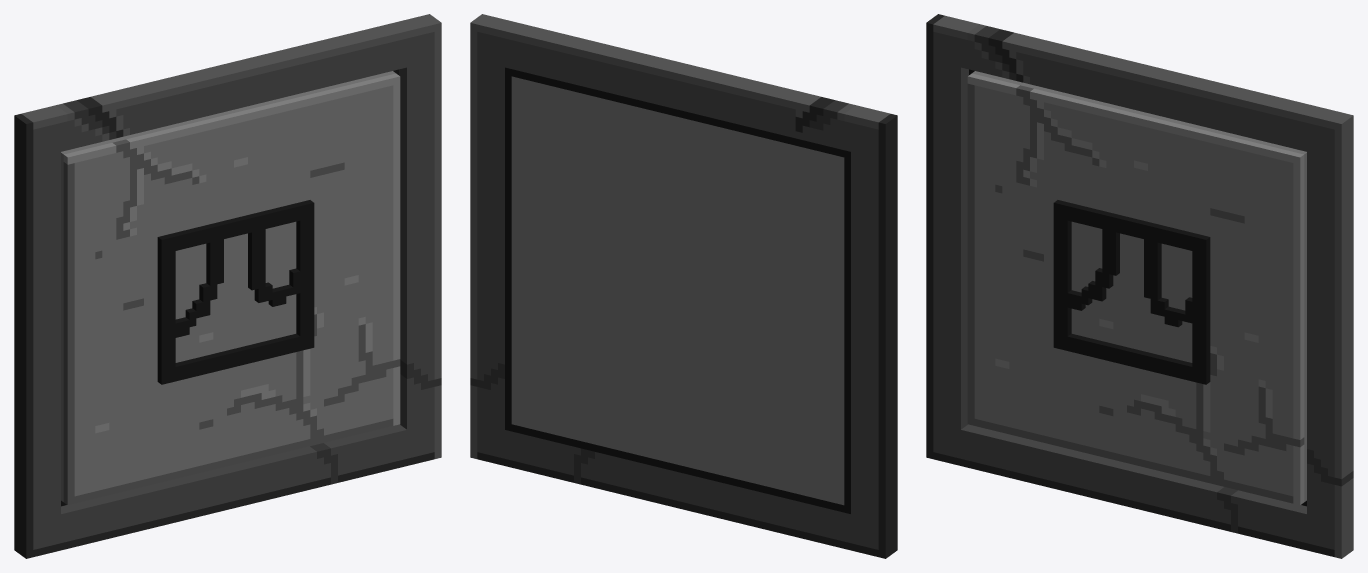
The model's file is balpan_4.obj.
3 renders of one model, left to right at view 1: azimuth 30°, elevation 25°; view 2: azimuth 150°, elevation 25°; view 3: azimuth 330°, elevation 25°, orthographic.
Parts seen in each view (by area): view 1: balpan_4; view 2: balpan_4; view 3: balpan_4.
Boxes of the visible parts, x1,y1,x2,y2 form: balpan_4: [14, 14, 441, 558]; balpan_4: [470, 14, 897, 558]; balpan_4: [926, 14, 1353, 558].
Bounding box in the file's own units: 60 × 60 × 4.
Materials: 1 (1 with a texture image).
